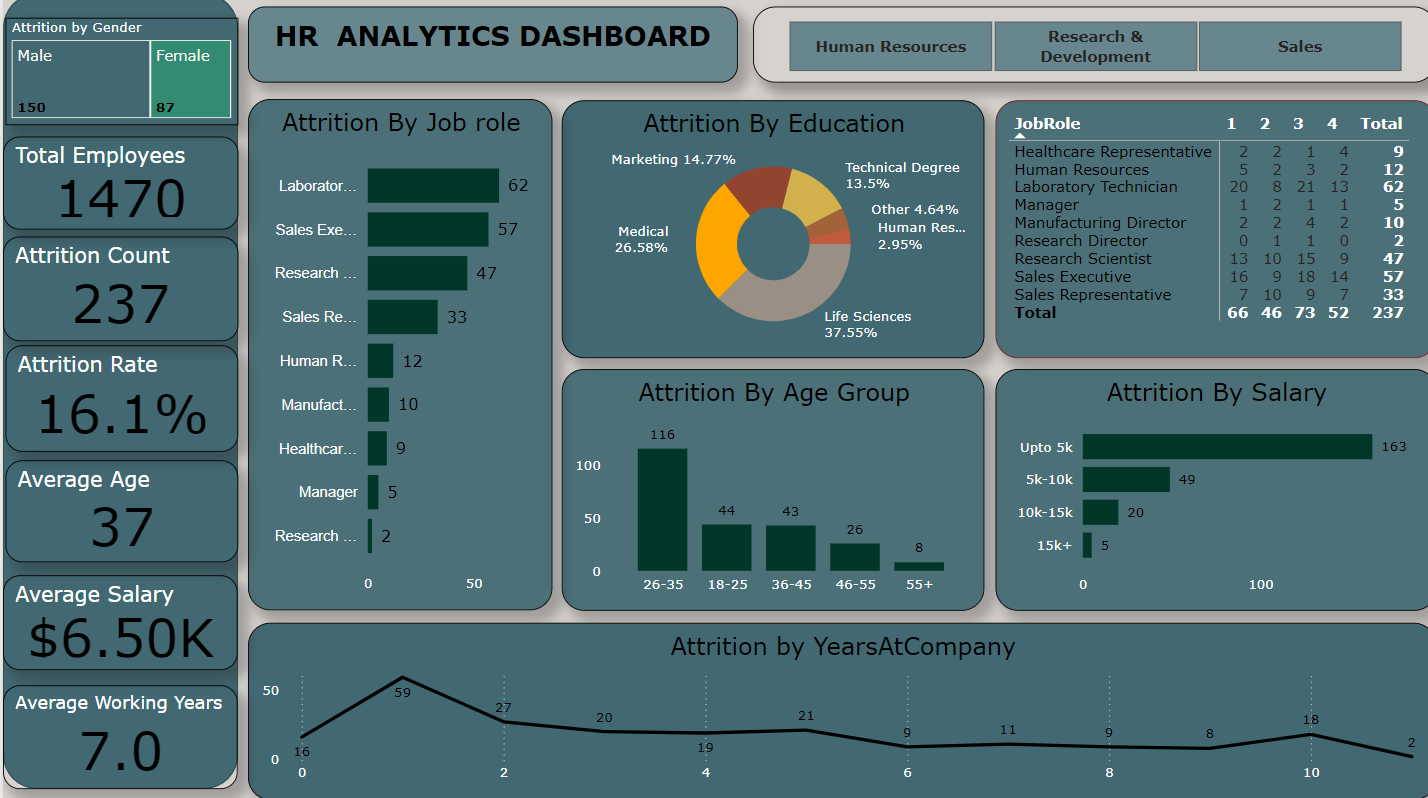

Layout of this report page (visuals, bound fields, positions):
{"tool":"powerbi","page":{"name":"Part 1","canvas":[1280,720],"ordinal":0},"visuals":[{"type":"shape","box":[0,0,210,710],"z":0},{"type":"pieChart","title":"Attrition  By Education","fields":{"Y":["Sum(HR_Analytics.Attrition Count)"],"Category":["HR_Analytics.EducationField"]},"box":[498.8,95.3,377.9,230.2],"z":1000},{"type":"card","title":"Total Employees","fields":{"Values":["CountNonNull(HR_Analytics.EmpID)"]},"box":[0,127.3,210,83.3],"z":1000,"group":"g1"},{"type":"card","title":"Attrition Count","fields":{"Values":["Sum(HR_Analytics.Attrition Count)"]},"box":[0,216.2,210,93.3],"z":2000,"group":"g1"},{"type":"columnChart","title":"Attrition  By Age Group","fields":{"Category":["HR_Analytics.AgeGroup"],"Y":["Sum(HR_Analytics.Attrition Count)"]},"box":[498.8,334.9,377.9,216.3],"z":2000},{"type":"pivotTable","fields":{"Rows":["HR_Analytics.JobRole"],"Columns":["HR_Analytics.JobSatisfaction"],"Values":["Sum(HR_Analytics.Attrition Count)"]},"box":[886,95.3,394.2,230.2],"z":3000},{"type":"card","title":"Attrition Rate","fields":{"Values":["Sum(HR_Analytics.Attrition Rate)"]},"box":[2.2,314,207.8,95.6],"z":3000,"group":"g1"},{"type":"clusteredBarChart","title":"Attrition  By Salary","fields":{"Category":["HR_Analytics.SalarySlab"],"Y":["Sum(HR_Analytics.Attrition Count)"]},"box":[886,334.9,394.2,216.3],"z":4000},{"type":"card","title":" Average Age","fields":{"Values":["Avg(HR_Analytics.Age)"]},"box":[2.2,416.2,207.7,91.6],"z":4000,"group":"g1"},{"type":"clusteredBarChart","title":"Attrition  By Job role","fields":{"Y":["Sum(HR_Analytics.Attrition Count)"],"Category":["HR_Analytics.JobRole"]},"box":[218.6,94.2,272.1,457],"z":5000},{"type":"card","title":"Average Salary","fields":{"Values":["Avg(HR_Analytics.MonthlyIncome)"]},"box":[0,518.9,209.9,84.9],"z":5000,"group":"g1"},{"type":"areaChart","title":" Attrition by YearsAtCompany","fields":{"Category":["HR_Analytics.YearsAtCompany"],"Y":["Sum(HR_Analytics.Attrition Count)"]},"box":[218.6,561.6,1061.6,158.1],"z":6000},{"type":"card","title":"Average Working Years","fields":{"Values":["Avg(HR_Analytics.YearsAtCompany)"]},"box":[0,617.2,209.9,92.7],"z":6000,"group":"g1"},{"type":"treemap","title":"Attrition by Gender","fields":{"Group":["HR_Analytics.Gender"],"Values":["Sum(HR_Analytics.Attrition Count)"]},"box":[2.2,21.2,207.7,96],"z":7000},{"type":"slicer","fields":{"Values":["HR_Analytics.Department"]},"box":[670,11.1,610,67.8],"z":8000},{"type":"textbox","box":[218.9,11.1,437.8,67.8],"z":9000},{"type":"group","id":"g1","title":"Group 1","box":[0,127.3,210,582.6],"z":10000}]}

Visuals, with their boxes in screenshot pixels (x1, y1, x2, y2), scaled from the page's 1280x720 canvas onto the 1428x798 screenshot:
shape: (left=0, top=0, right=234, bottom=787)
"Attrition  By Education" pieChart: (left=556, top=106, right=978, bottom=361)
"Total Employees" card: (left=0, top=141, right=234, bottom=233)
"Attrition Count" card: (left=0, top=240, right=234, bottom=343)
"Attrition  By Age Group" columnChart: (left=556, top=371, right=978, bottom=611)
pivotTable - HR_Analytics.JobRole x HR_Analytics.JobSatisfaction: (left=988, top=106, right=1427, bottom=361)
"Attrition Rate" card: (left=2, top=348, right=234, bottom=454)
"Attrition  By Salary" clusteredBarChart: (left=988, top=371, right=1427, bottom=611)
" Average Age" card: (left=2, top=461, right=234, bottom=563)
"Attrition  By Job role" clusteredBarChart: (left=244, top=104, right=547, bottom=611)
"Average Salary" card: (left=0, top=575, right=234, bottom=669)
" Attrition by YearsAtCompany" areaChart: (left=244, top=622, right=1427, bottom=797)
"Average Working Years" card: (left=0, top=684, right=234, bottom=787)
"Attrition by Gender" treemap: (left=2, top=23, right=234, bottom=130)
slicer - HR_Analytics.Department: (left=747, top=12, right=1427, bottom=87)
textbox: (left=244, top=12, right=733, bottom=87)
"Group 1" group: (left=0, top=141, right=234, bottom=787)
